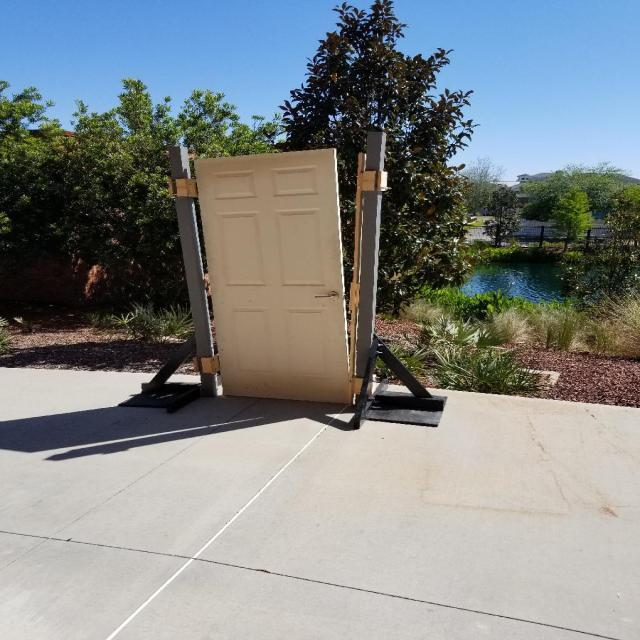door: (190, 144, 356, 408), (313, 290, 342, 305)
